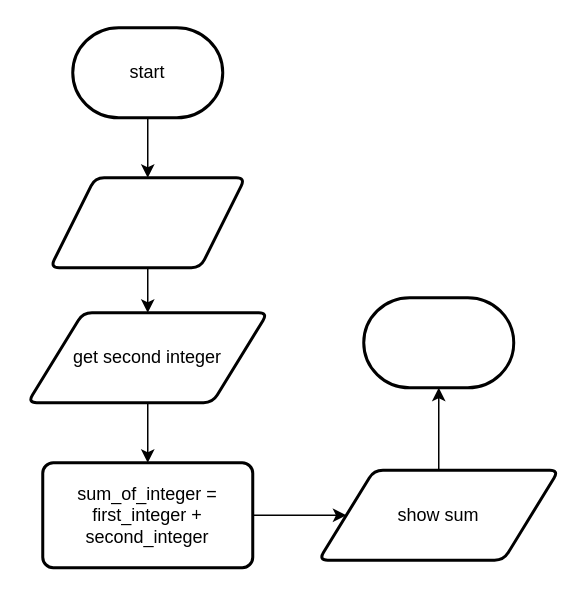
Image size: 585x594. Some labels were removed from this diagram. Here are the shapes that lost their labels. From the top down, the box of each, then its label:
(48, 176, 246, 268): get first integer
(362, 296, 514, 388): stop
